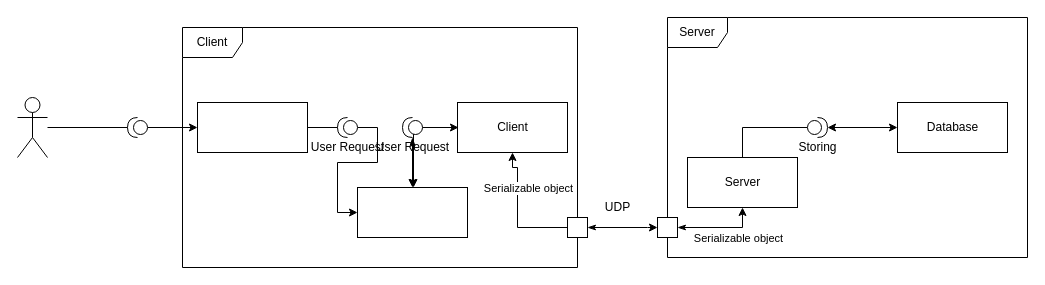
Some shapes in this 1045 by 285 pixel diagram are drawn without their labels. Each missing label, with the box of its shape:
Actor: (16, 96, 48, 158)
Chat: (356, 186, 468, 238)
Gui: (196, 102, 308, 152)
